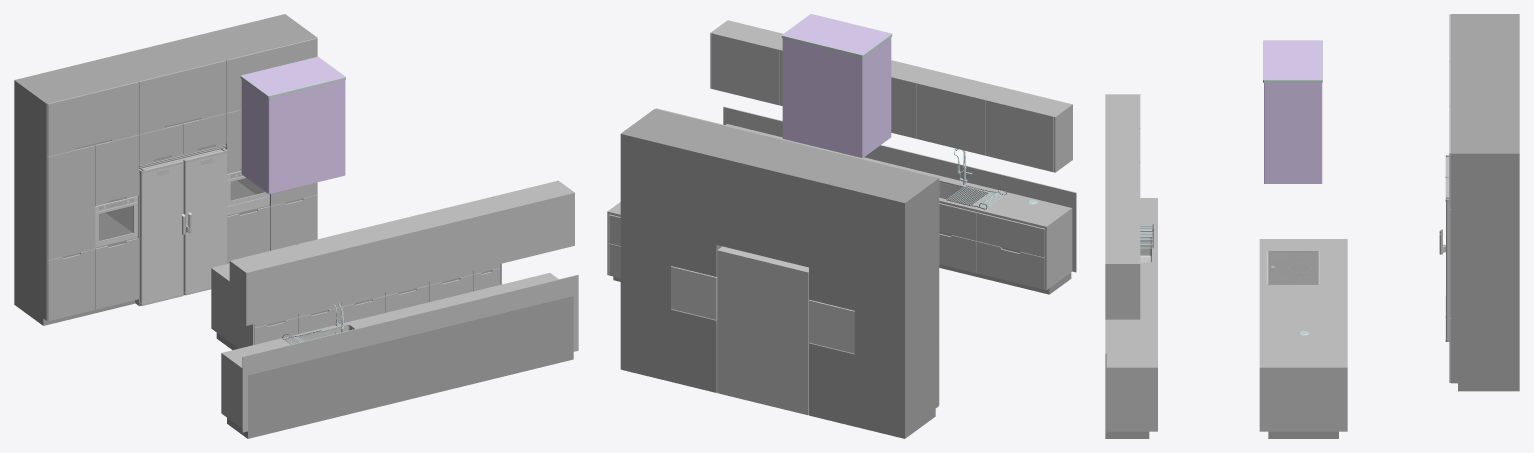
The model's file is cocina_silver.glb.
3 views of the same model, side by side, from view 1: azimuth 30°, elevation 25°; view 2: azimuth 150°, elevation 25°; view 3: azimuth 270°, elevation 25° (orthographic). The views are drawn at different scales.
Visible parts, largest first — view 1: Object_12, Object_3, Object_2, Object_17, Object_11, Object_15, Object_16, Object_4; view 2: Object_3, Object_12, Object_16, Object_2, Object_11, Object_4, Object_5; view 3: Object_12, Object_3, Object_2, Object_15, Object_17, Object_11, Object_16.
Part boxes in pixels (x1,y1,x2,y2): Object_12: (47, 38, 578, 432); Object_3: (14, 14, 573, 438); Object_2: (241, 57, 345, 193); Object_17: (140, 153, 226, 303); Object_11: (95, 170, 353, 340); Object_15: (99, 178, 264, 240); Object_16: (135, 148, 227, 306); Object_4: (240, 57, 345, 343); Object_3: (613, 109, 1071, 438); Object_12: (607, 20, 1076, 404); Object_16: (717, 246, 809, 415); Object_2: (782, 14, 891, 157); Object_11: (671, 182, 986, 353); Object_4: (781, 14, 999, 207); Object_5: (826, 149, 1037, 208); Object_12: (1105, 14, 1450, 433); Object_3: (1105, 14, 1519, 438); Object_2: (1264, 40, 1322, 183); Object_15: (1268, 251, 1318, 284); Object_17: (1446, 202, 1449, 339); Object_11: (1140, 238, 1319, 284); Object_16: (1439, 154, 1449, 341).
Bounding box in the file's own units: 5.1 × 3.5 × 4.7.
